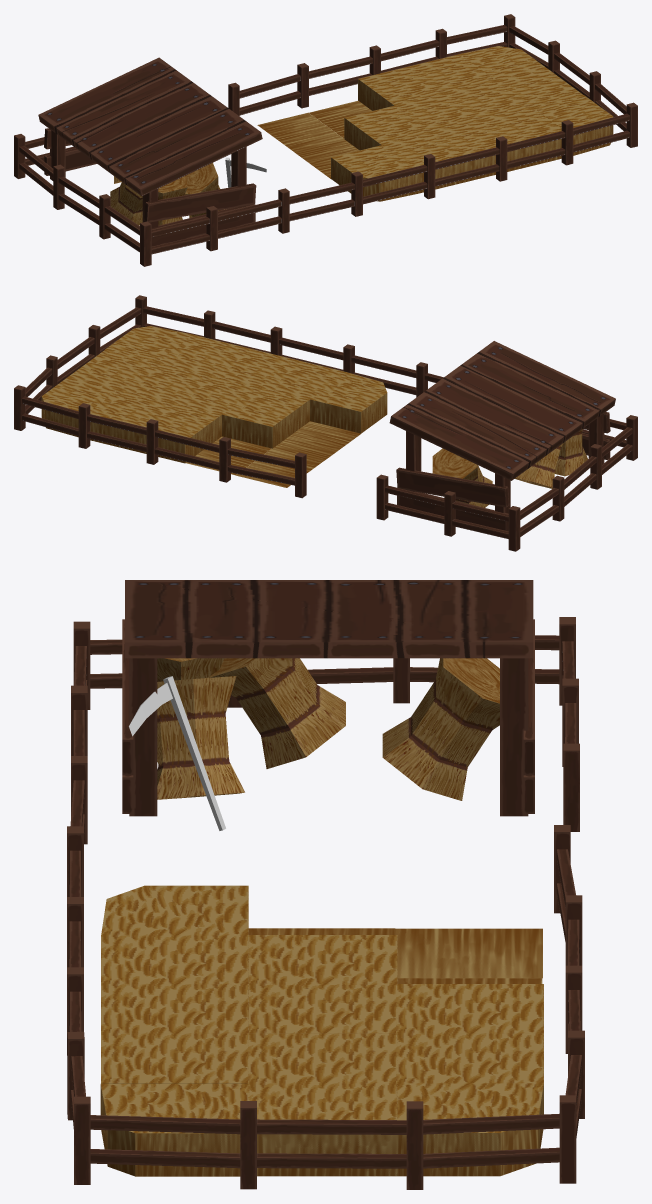
The model's file is farm.fbx.
The picture shows the model from 3 angles, top to bottom: view 1: azimuth 30°, elevation 25°; view 2: azimuth 150°, elevation 25°; view 3: azimuth 270°, elevation 25°; orthographic projection. The views are drawn at different scales.
Parts seen in each view (by area): view 1: Cube.002, Cube.036, Cube.004, Cube.008, Cube.007; view 2: Cube.002, Cube.036, Cube.008, Cube.004, Cube.007; view 3: Cube.002, Cube.036, Cube.004, Cube.011, Cube.008, Cube.007.
Boxes of the visible parts, <box> form: Cube.002: <box>14,14,637,266</box>; Cube.036: <box>331,46,613,201</box>; Cube.004: <box>257,112,344,151</box>; Cube.008: <box>294,140,359,178</box>; Cube.007: <box>309,100,371,138</box>; Cube.002: <box>14,295,637,551</box>; Cube.036: <box>41,326,387,463</box>; Cube.008: <box>273,421,360,460</box>; Cube.004: <box>236,448,323,487</box>; Cube.007: <box>186,436,271,475</box>; Cube.002: <box>67,580,584,1189</box>; Cube.036: <box>100,885,543,1176</box>; Cube.004: <box>395,928,542,978</box>; Cube.011: <box>129,676,225,830</box>; Cube.008: <box>248,928,395,934</box>; Cube.007: <box>397,978,542,983</box>.
Size of the model in its own units: 1158 by 223 by 513.
